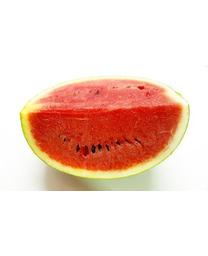watermelon: (18, 75, 191, 182)
